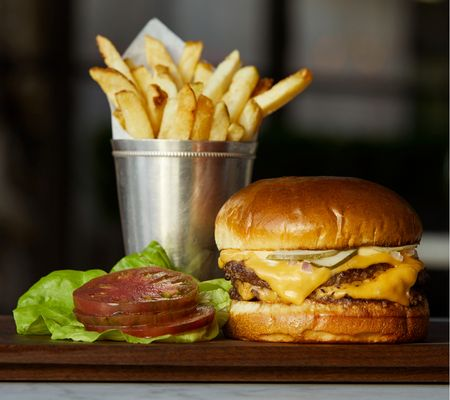pasta: (87, 24, 313, 144)
soup: (210, 176, 430, 345)
